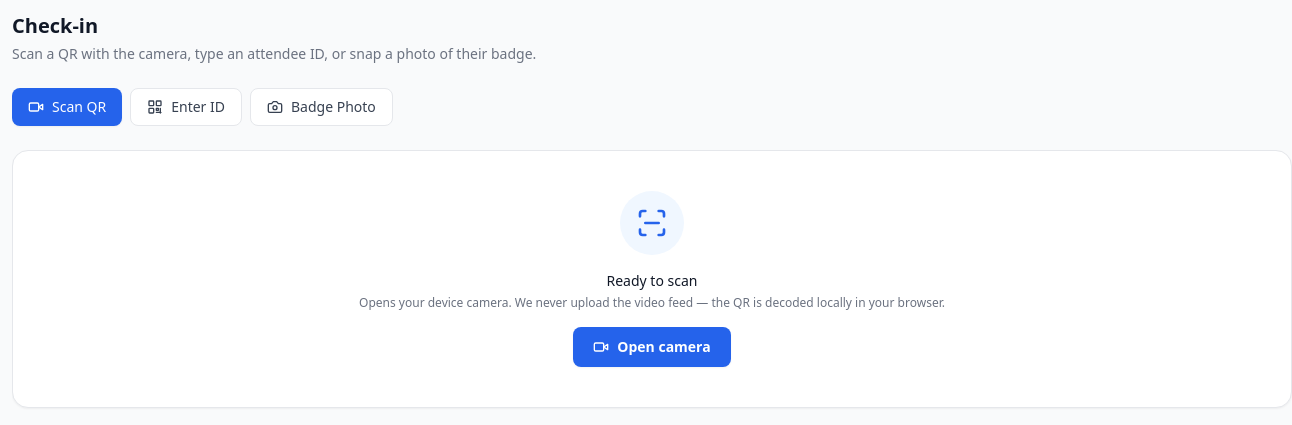
Test case: <CheckIn /> › disables the submit button when ID is empty
This screenshot has width=1292, height=425.
Click the tab "Enter ID".
click(186, 107)  # box [130,88,242,126]
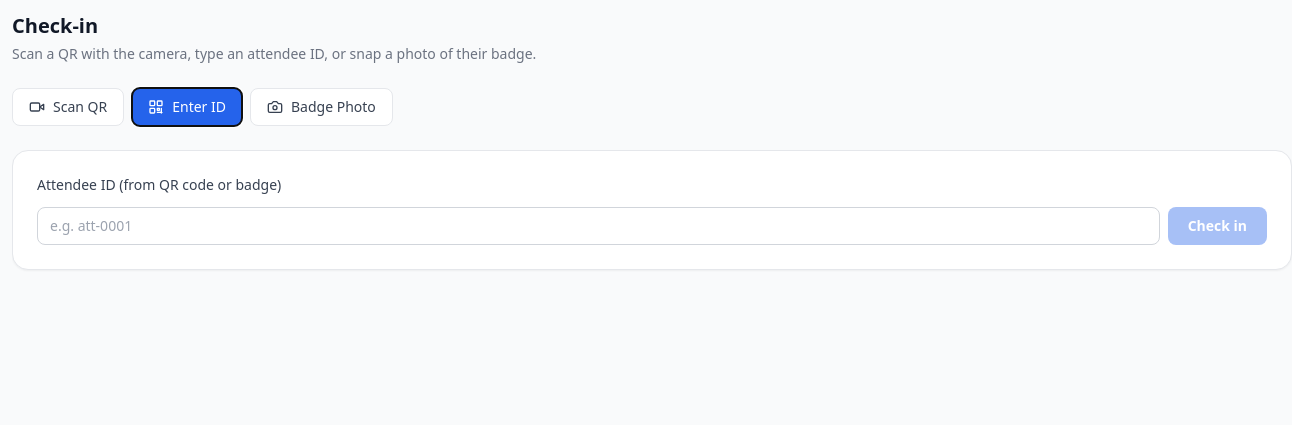
expect the button "Check in" is disabled: met, box [1168,207,1267,245]
